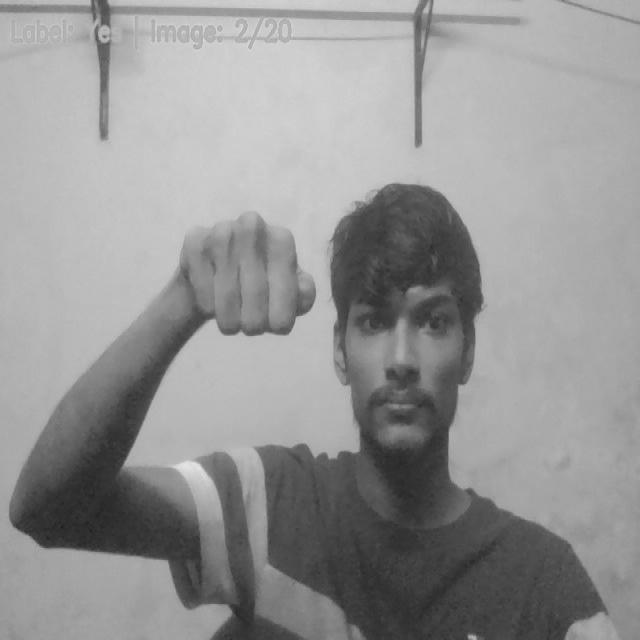Yes: (180, 208, 322, 340), (0, 253, 2, 258)
